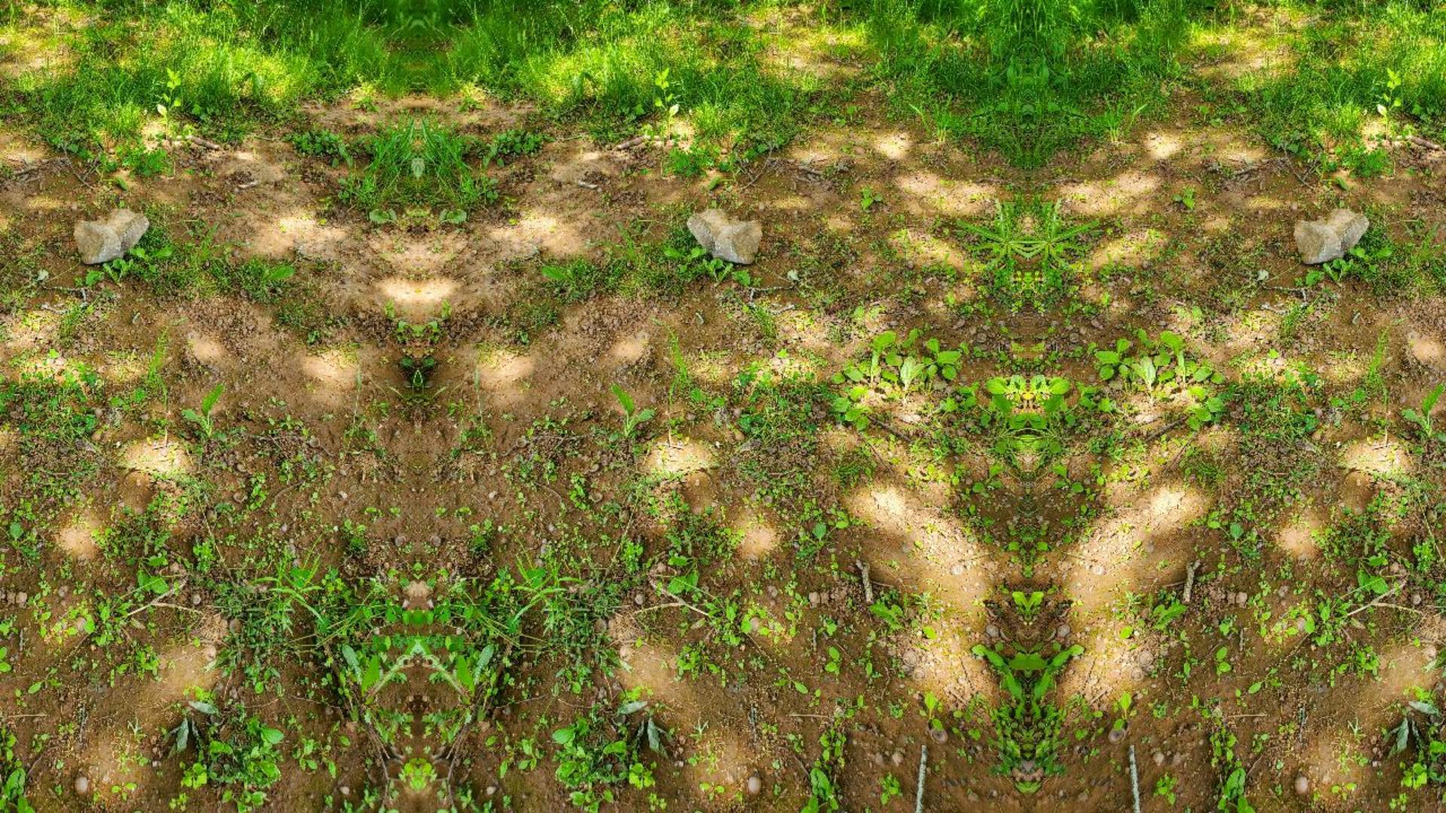rock: (75, 209, 148, 264), (1295, 209, 1368, 264), (687, 209, 760, 263)
